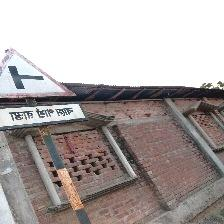Side-road-left: (0, 47, 91, 132)
